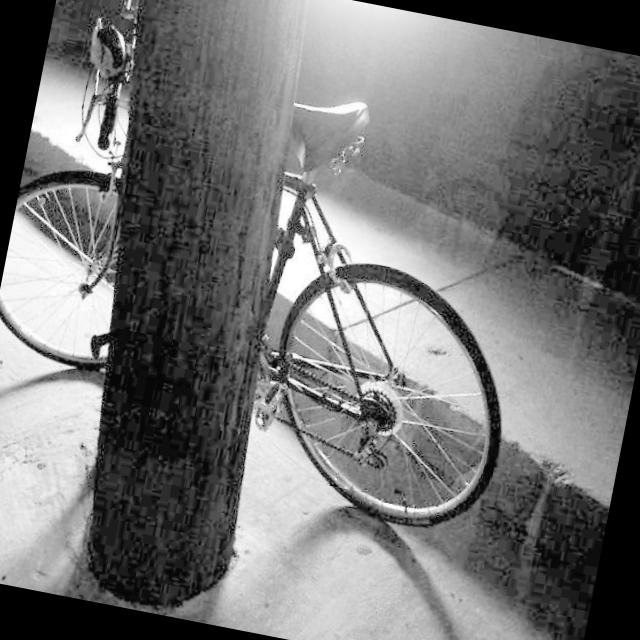Bicycle: (0, 20, 559, 554)
